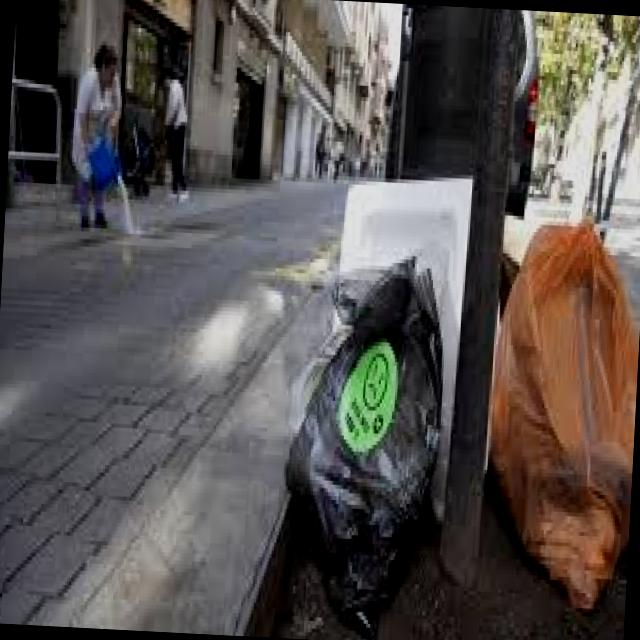garbage: (277, 134, 640, 638)
